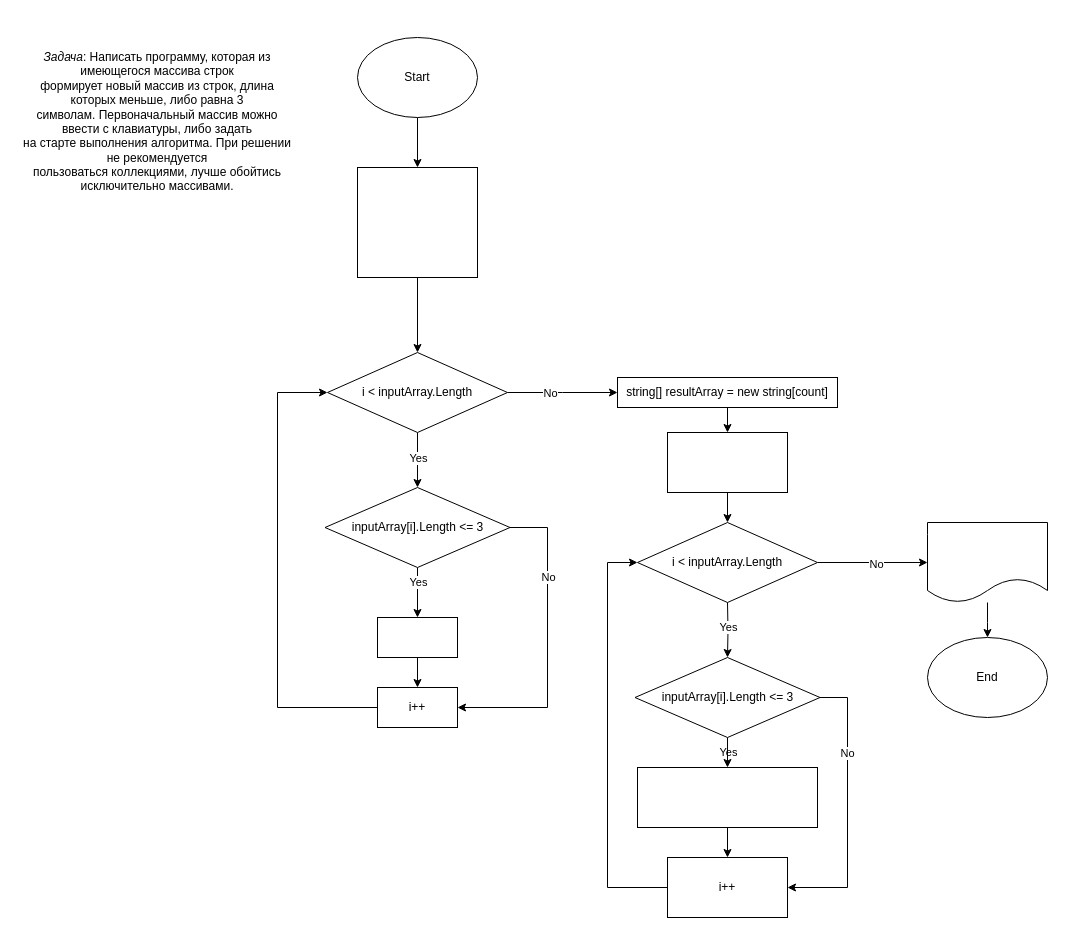
Image size: 1065x935. Some labels were removed from this diagram. The shapes that lost their labels are listed below. From the top down, each one's centre as x and y in pixels, then its label:
At pixel 417 222: "strin[] inputArray int count = 0 int index = 0 int i = 0".
At pixel 727 462: "int i = 0".
At pixel 987 562: "resultArray".
At pixel 417 637: "count++".
At pixel 727 797: "resultArray[index] = inputArray[i] index++".
